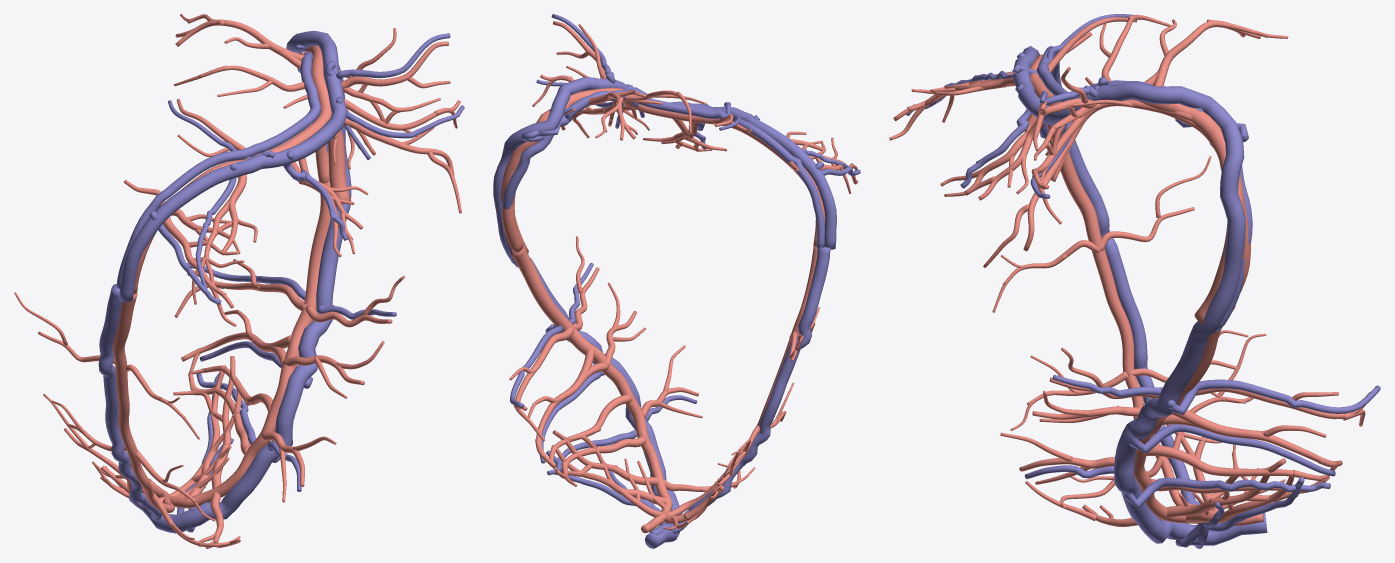
Rendered from vessels_51.glb.
The picture shows the model from 3 angles, left to right: view 1: azimuth 30°, elevation 25°; view 2: azimuth 150°, elevation 25°; view 3: azimuth 270°, elevation 25°; orthographic projection. The views are drawn at different scales.
Visible parts, largest first — view 1: Renderer Node; view 2: Renderer Node; view 3: Renderer Node.
Part boxes in pixels (box(x1,y1,x2,y2)): Renderer Node: box(14, 14, 464, 548); Renderer Node: box(493, 14, 860, 548); Renderer Node: box(889, 14, 1380, 548).
Bounding box in the file's own units: 94.79 × 122 × 95.36.
